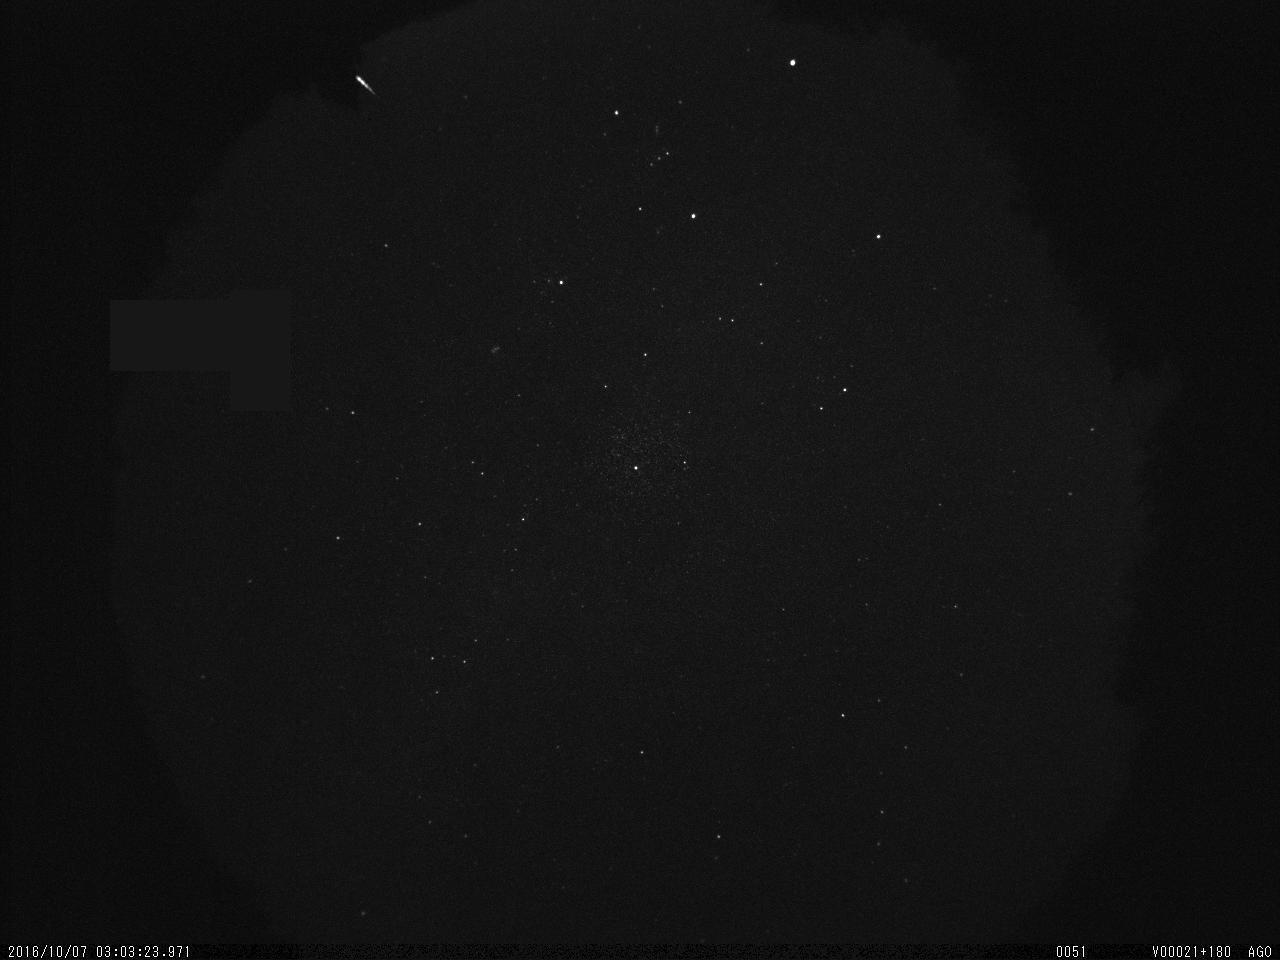Meteor: (350, 66, 381, 100)
